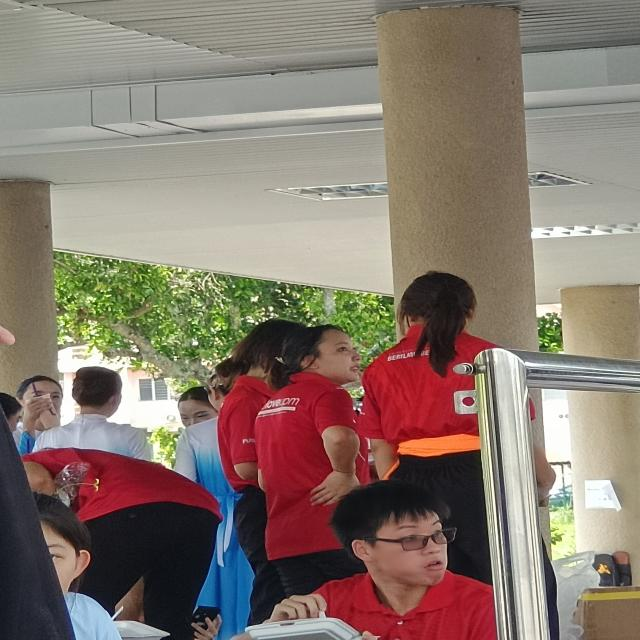person_without_labcoat: (358, 271, 498, 584), (266, 481, 497, 640), (255, 325, 370, 597)
